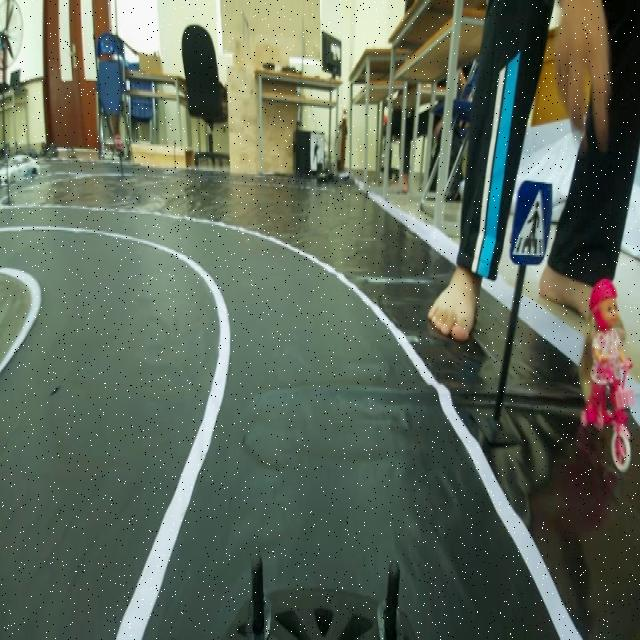crosswalk: (515, 178, 553, 272)
pedestrian: (570, 262, 636, 478)
